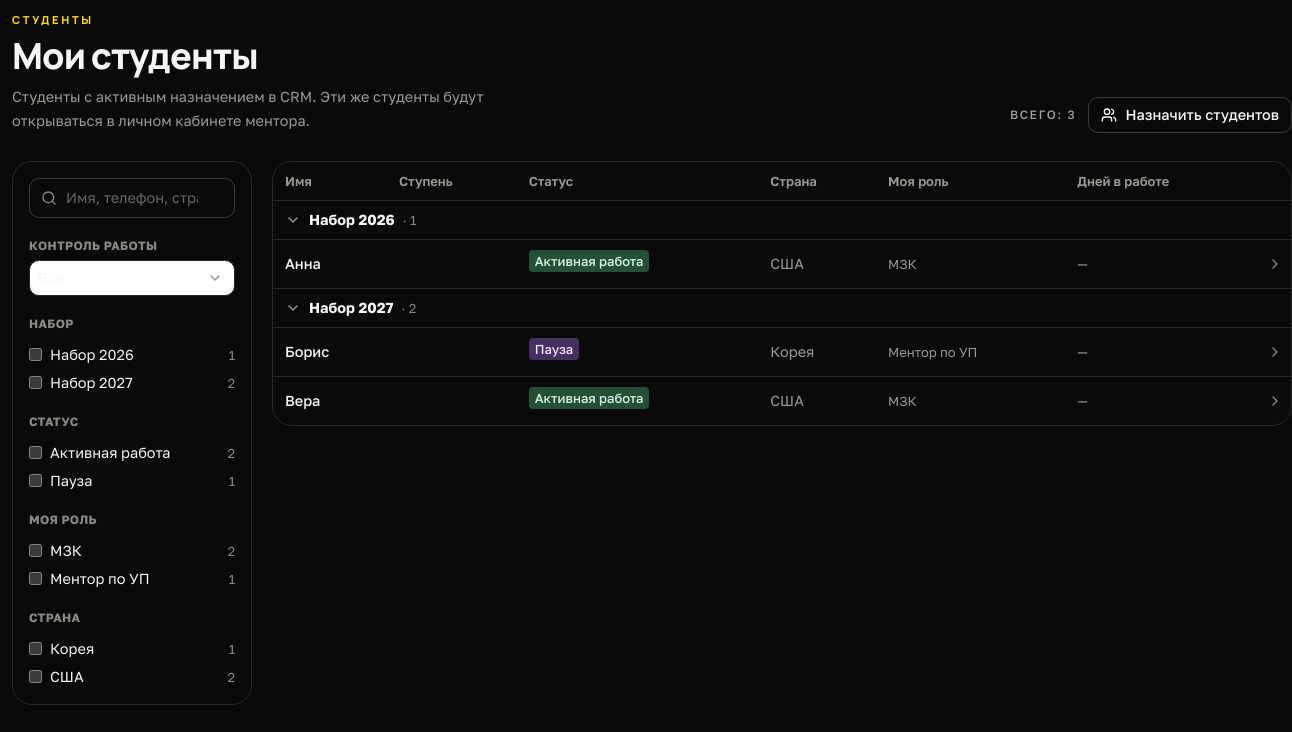
Test: таблица сгруппирована по наборам, фильтры слева со счётчиками
The width and height of the screenshot is (1292, 732).
Expected: the button "Набор 2026 · 1" is shown, [285,208,416,230]
Expected: the button "Набор 2027 · 2" is shown, [285,296,416,318]
Click the checkbox labelled "Корея 1".
click(36, 648)  # box [29,642,42,655]
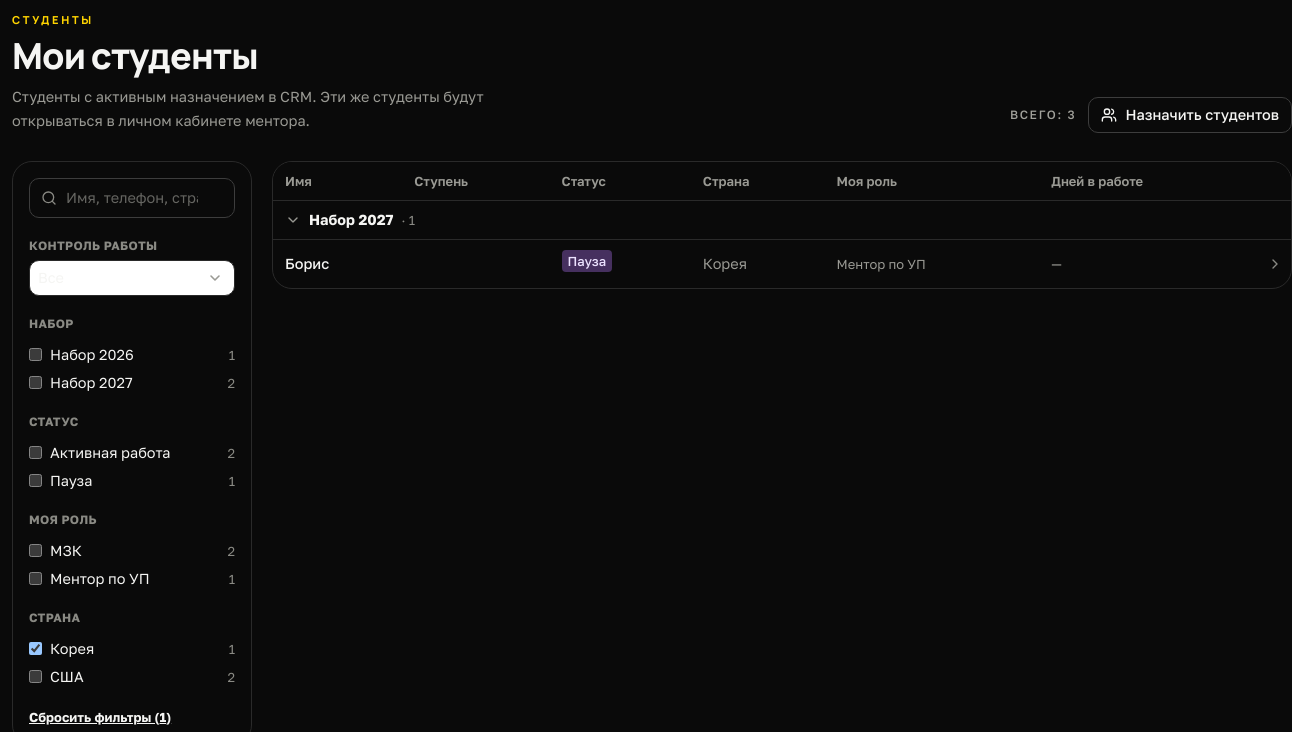
Expected: the link "Борис" is shown, [285,254,329,272]
Expected: no links "Анна" are shown
Click the button "Сбросить фильтры (1)".
click(100, 716)  # box [29,708,171,726]
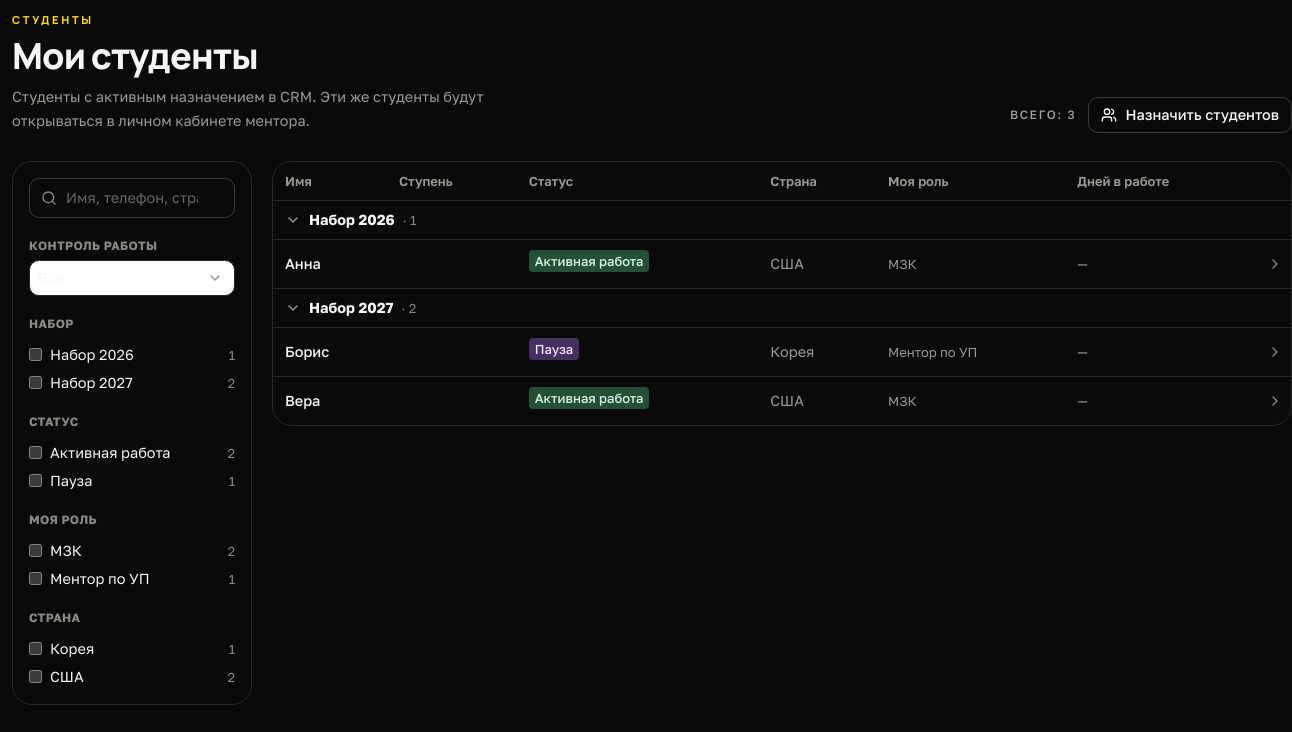
Click the checkbox labelled "Ментор по УП 1".
click(36, 578)  # box [29,572,42,585]
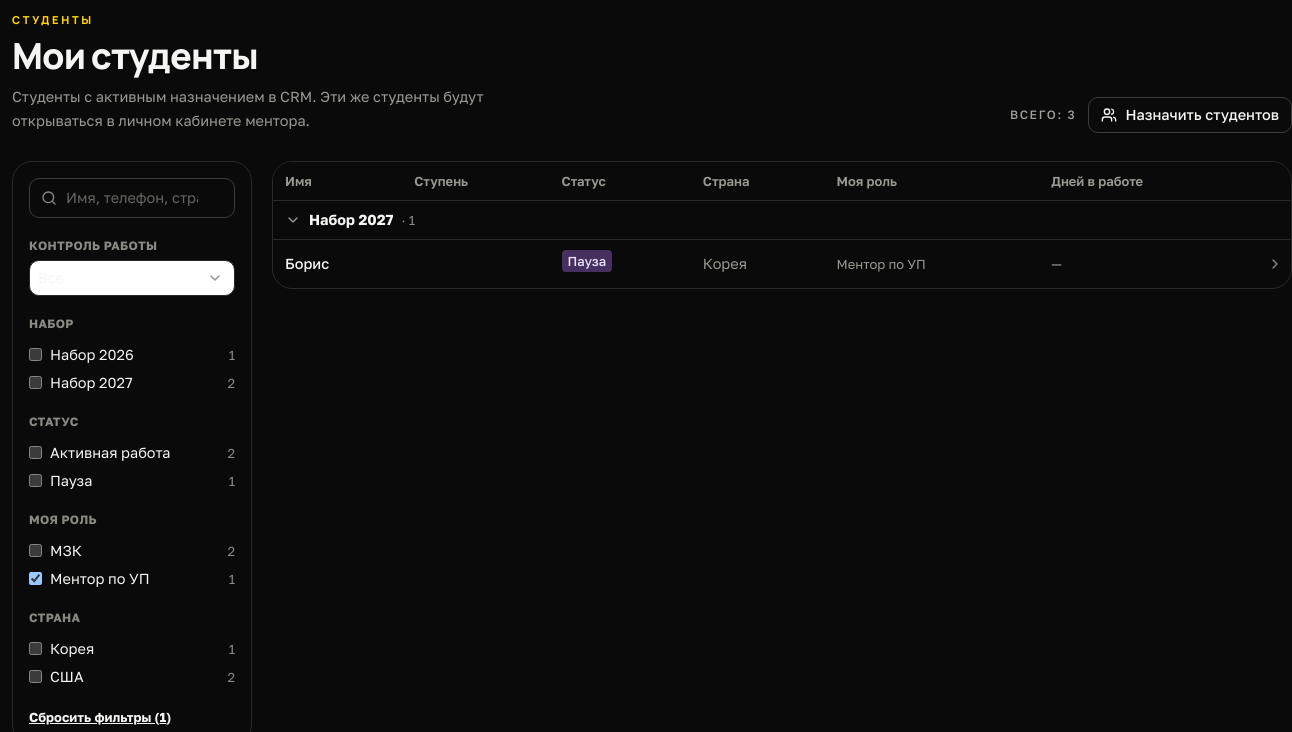
Expected: no links "Вера" are shown
